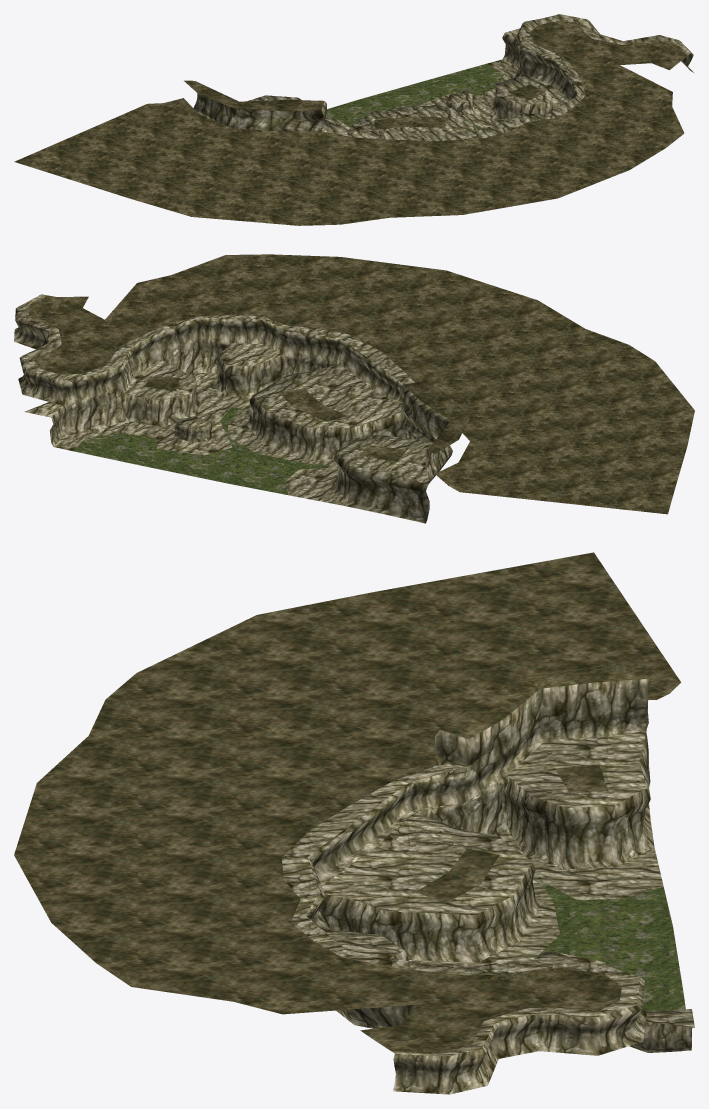
Rendered from CB_NEWPLAYSURFACE_OBJECT01.fbx.
The picture shows the model from 3 angles, top to bottom: view 1: azimuth 30°, elevation 25°; view 2: azimuth 150°, elevation 25°; view 3: azimuth 270°, elevation 25°; orthographic projection. The views are drawn at different scales.
Parts seen in each view (by area): view 1: CB_NEWPLAYSURFACE_OBJECT01; view 2: CB_NEWPLAYSURFACE_OBJECT01; view 3: CB_NEWPLAYSURFACE_OBJECT01.
Part boxes in pixels (left/top/right/bottom): CB_NEWPLAYSURFACE_OBJECT01: left=14, top=14, right=694, bottom=225; CB_NEWPLAYSURFACE_OBJECT01: left=14, top=254, right=694, bottom=523; CB_NEWPLAYSURFACE_OBJECT01: left=14, top=552, right=694, bottom=1094.
Bounding box in the file's own units: 1008341 × 103072 × 568996.
Materials: 4 (4 with a texture image).
